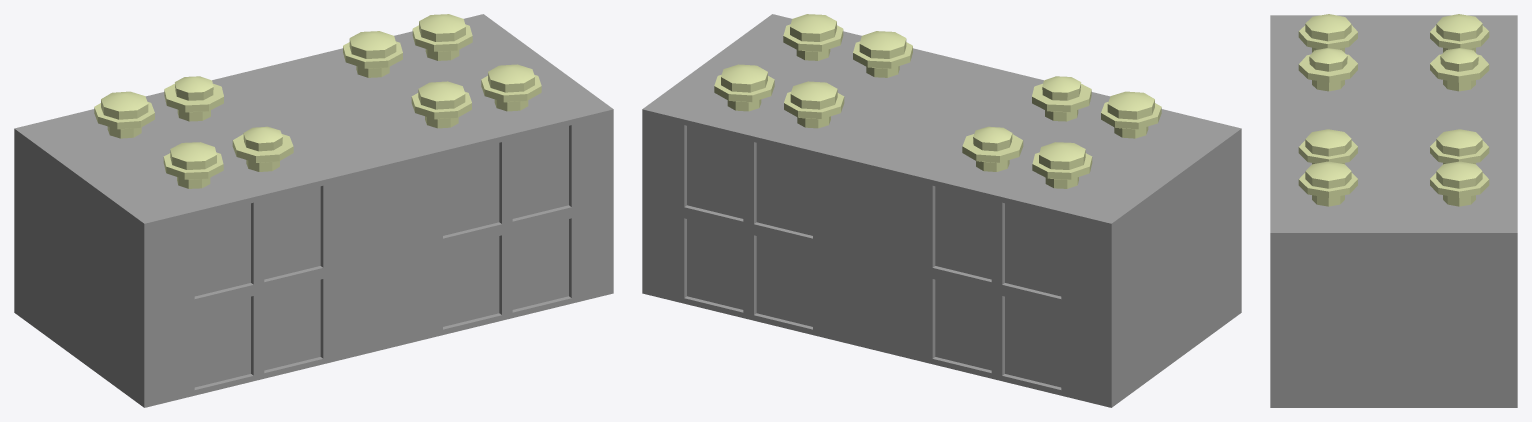
File: Turbine Air.fbx
3 renders of one model, left to right at view 1: azimuth 30°, elevation 25°; view 2: azimuth 150°, elevation 25°; view 3: azimuth 270°, elevation 25°, orthographic. The views are drawn at different scales.
Visible parts, largest first — view 1: pCube14; view 2: pCube14; view 3: pCube14.
Boxes of the visible parts, x1=… form: pCube14: x1=14, y1=14, x2=613, y2=407; pCube14: x1=642, y1=14, x2=1241, y2=407; pCube14: x1=1270, y1=14, x2=1517, y2=407.
Bounding box in the file's own units: 8.6 × 3.87 × 4.13.
